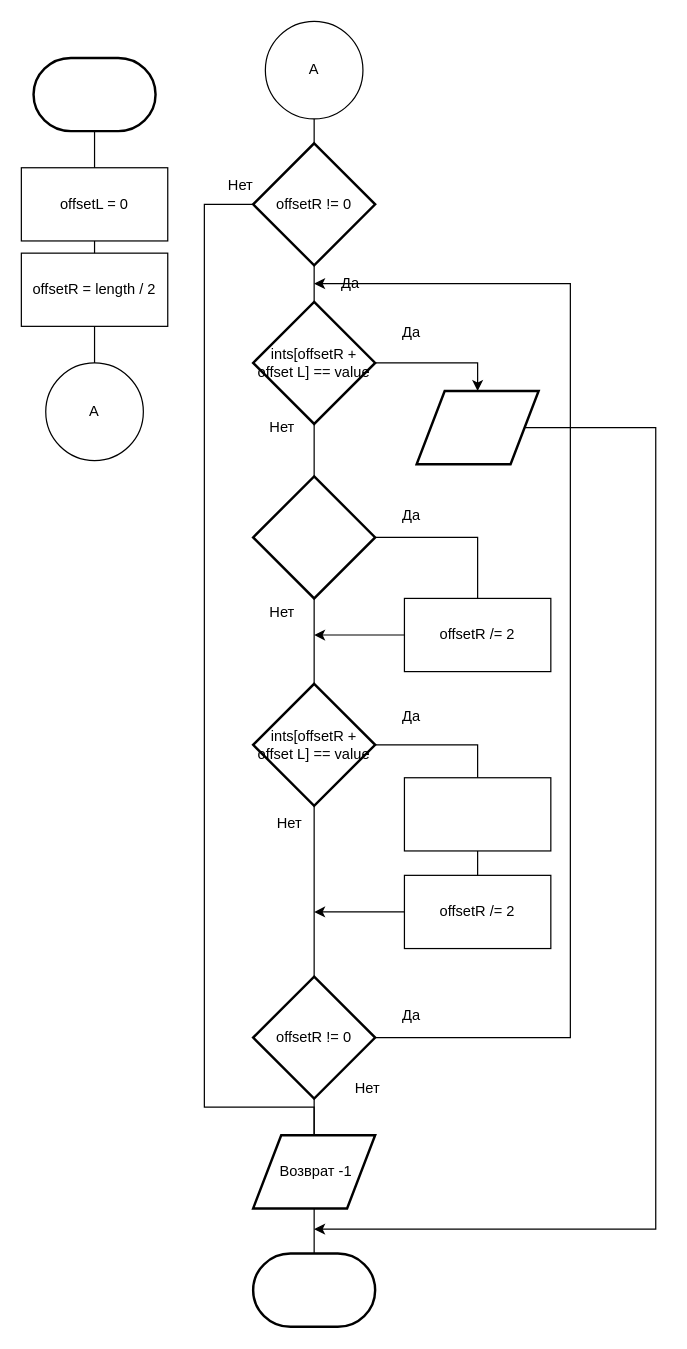
Some shapes in this 687 by 1349 pixel diagram are drawn without their labels. The centre of each missing label's shape, as x and y in pixels:
ints[offsetR + offset L] > value: [313,537]
offsetL += offsetR: [477,814]
Возврат offsetR + offsetL: [477,427]
Конец: [313,1289]
Начало: [94,94]
